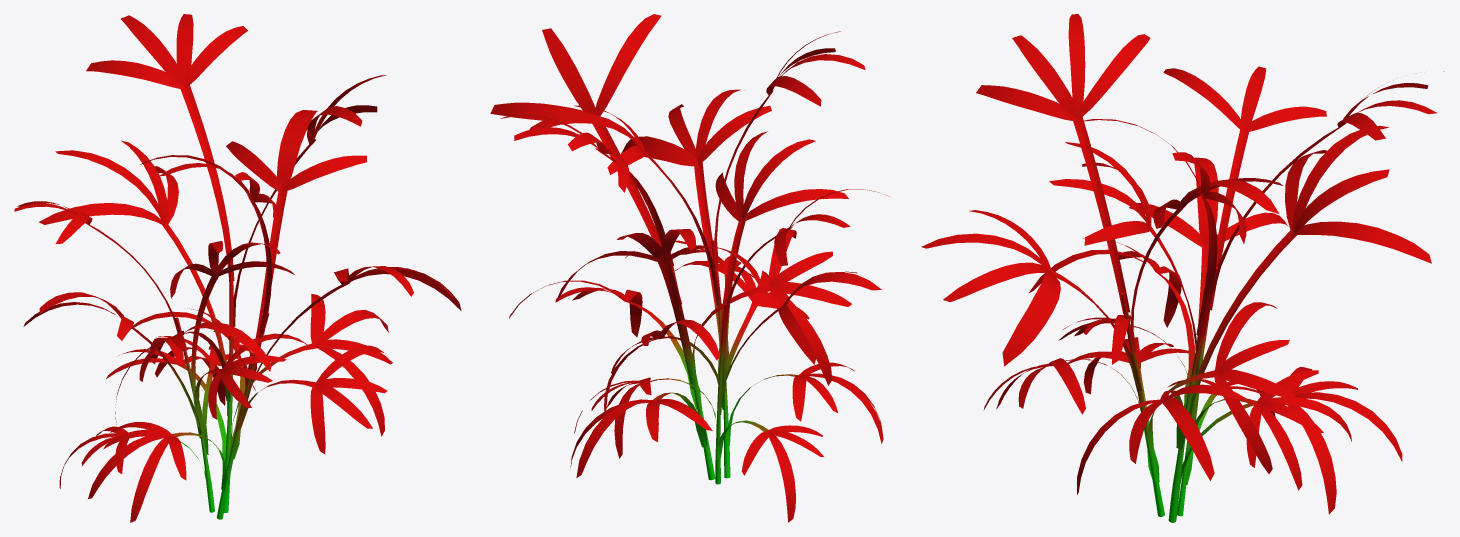
The model's file is SM_BroadleafLadyPalm_04.FBX.
The picture shows the model from 3 angles, left to right: view 1: azimuth 30°, elevation 25°; view 2: azimuth 150°, elevation 25°; view 3: azimuth 270°, elevation 25°; orthographic projection. The views are drawn at different scales.
Parts seen in each view (by area): view 1: SM_BroadleafLadyPalm_04; view 2: SM_BroadleafLadyPalm_04; view 3: SM_BroadleafLadyPalm_04.
Boxes of the visible parts, x1,y1,x2,y2 form: SM_BroadleafLadyPalm_04: (14, 14, 461, 522); SM_BroadleafLadyPalm_04: (490, 14, 889, 522); SM_BroadleafLadyPalm_04: (921, 14, 1444, 522).
Size of the model in its own units: 46.95 by 52.17 by 50.71.
